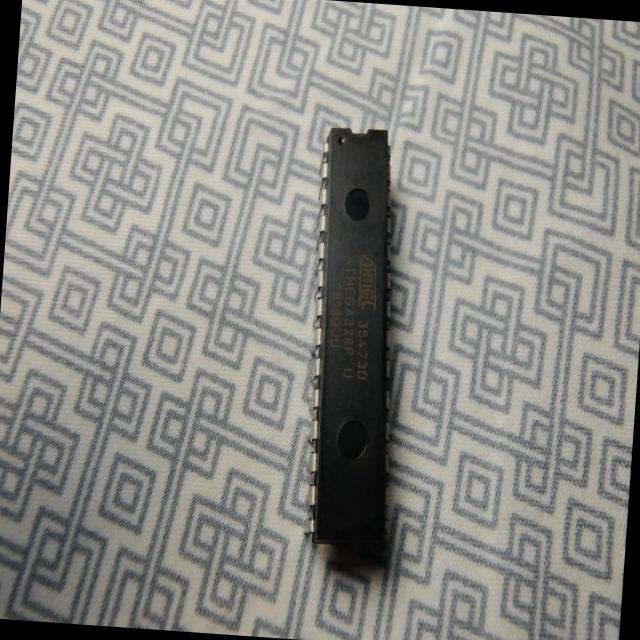atmega: (291, 121, 418, 556)
